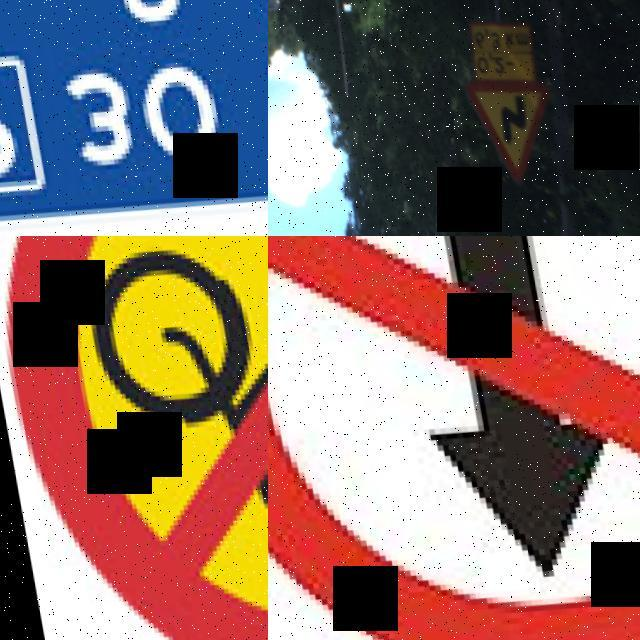120: (0, 0, 268, 236)
139: (454, 61, 568, 192)
181: (459, 11, 538, 88)
39: (0, 236, 268, 640)
No entry: (268, 236, 640, 640)
